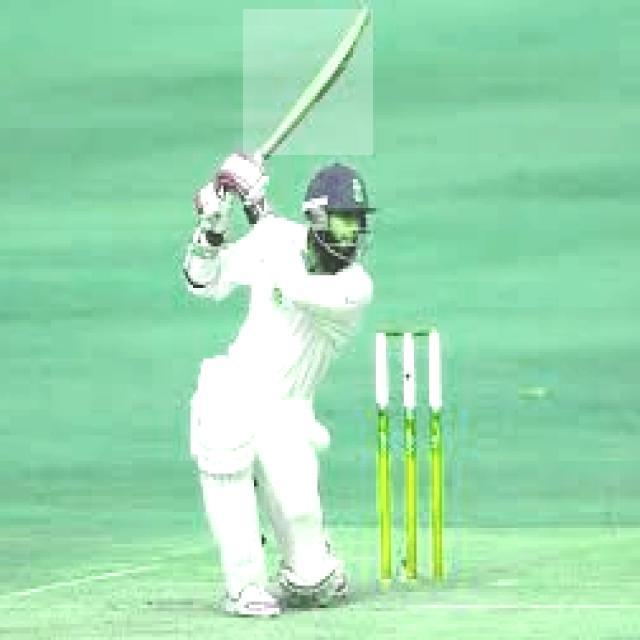bat: (243, 8, 373, 157)
toe: (356, 5, 375, 21)
